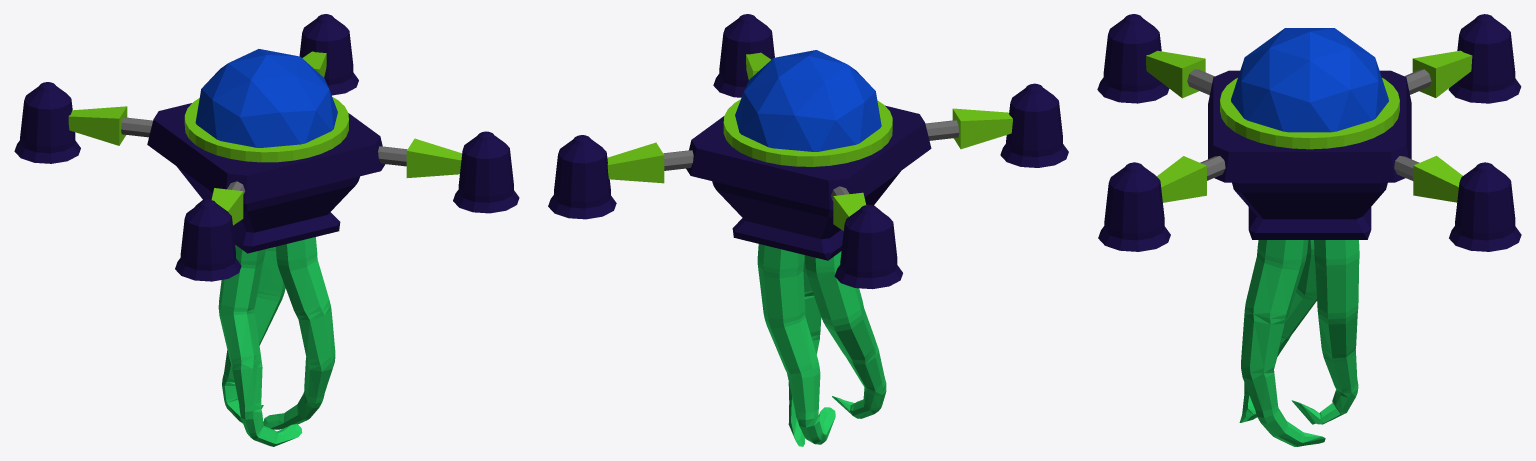
The model's file is jellyfishBoss_24.obj.
3 views of the same model, side by side, from view 1: azimuth 30°, elevation 25°; view 2: azimuth 150°, elevation 25°; view 3: azimuth 270°, elevation 25° (orthographic). The views are drawn at different scales.
Visible parts, largest first — view 1: Base_Cube.001, Head_Icosphere, Cylinder.002_Cylinder.001, Cylinder.003_Cylinder.002, Rocket_1_Cylinder.003, Rocket_2_Cylinder.014, Rocket_3_Cylinder.016, Cylinder, Rocket_4_Cylinder.018, Cylinder.001_Cylinder.012, B_Arm_1_Cube.002, B_Arm_3_Cube.011 (+3 smaller); view 2: Base_Cube.001, Head_Icosphere, Cylinder.001_Cylinder.012, Cylinder.003_Cylinder.002, Rocket_3_Cylinder.016, Rocket_4_Cylinder.018, Rocket_2_Cylinder.014, Cylinder, Rocket_1_Cylinder.003, B_Arm_4_Cube.012, B_Arm_2_Cube.010, Cylinder.002_Cylinder.001 (+3 smaller); view 3: Base_Cube.001, Head_Icosphere, Cylinder.002_Cylinder.001, Cylinder.001_Cylinder.012, Rocket_4_Cylinder.018, Rocket_1_Cylinder.003, Rocket_3_Cylinder.016, Rocket_2_Cylinder.014, Cylinder, Cylinder.003_Cylinder.002, B_Arm_2_Cube.010, B_Arm_4_Cube.012 (+4 smaller).
Part boxes in pixels (left/top/right/bottom): Base_Cube.001: left=147, top=103, right=385, bottom=253; Head_Icosphere: left=195, top=49, right=337, bottom=147; Cylinder.002_Cylinder.001: left=263, top=237, right=335, bottom=429; Cylinder.003_Cylinder.002: left=218, top=244, right=302, bottom=446; Rocket_1_Cylinder.003: left=453, top=131, right=519, bottom=213; Rocket_2_Cylinder.014: left=175, top=199, right=241, bottom=281; Rocket_3_Cylinder.016: left=14, top=82, right=80, bottom=163; Cylinder: left=184, top=97, right=348, bottom=162; Rocket_4_Cylinder.018: left=299, top=14, right=358, bottom=95; Cylinder.001_Cylinder.012: left=222, top=247, right=285, bottom=423; B_Arm_1_Cube.002: left=406, top=138, right=462, bottom=177; B_Arm_3_Cube.011: left=68, top=106, right=127, bottom=145; Base_Cube.001: left=686, top=105, right=931, bottom=260; Head_Icosphere: left=735, top=50, right=881, bottom=151; Cylinder.001_Cylinder.012: left=757, top=244, right=835, bottom=444; Cylinder.003_Cylinder.002: left=804, top=251, right=886, bottom=418; Rocket_3_Cylinder.016: left=834, top=204, right=902, bottom=289; Rocket_4_Cylinder.018: left=548, top=135, right=616, bottom=219; Rocket_2_Cylinder.014: left=1000, top=83, right=1068, bottom=167; Cylinder: left=723, top=99, right=892, bottom=166; Rocket_1_Cylinder.003: left=713, top=14, right=774, bottom=97; B_Arm_4_Cube.012: left=607, top=142, right=664, bottom=183; B_Arm_2_Cube.010: left=952, top=108, right=1012, bottom=149; Cylinder.002_Cylinder.001: left=788, top=256, right=821, bottom=446; Base_Cube.001: left=1208, top=70, right=1411, bottom=239; Head_Icosphere: left=1231, top=28, right=1388, bottom=132; Cylinder.002_Cylinder.001: left=1241, top=240, right=1325, bottom=446; Cylinder.001_Cylinder.012: left=1291, top=240, right=1359, bottom=424; Rocket_4_Cylinder.018: left=1449, top=162, right=1521, bottom=251; Rocket_1_Cylinder.003: left=1098, top=162, right=1170, bottom=251; Rocket_3_Cylinder.016: left=1448, top=14, right=1521, bottom=103; Rocket_2_Cylinder.014: left=1097, top=14, right=1169, bottom=103; Cylinder: left=1220, top=78, right=1399, bottom=149; Cylinder.003_Cylinder.002: left=1239, top=240, right=1316, bottom=422; B_Arm_2_Cube.010: left=1146, top=50, right=1205, bottom=98; B_Arm_4_Cube.012: left=1413, top=155, right=1462, bottom=202.
Bounding box in the file's own units: 14.77 × 15.82 × 14.77.
